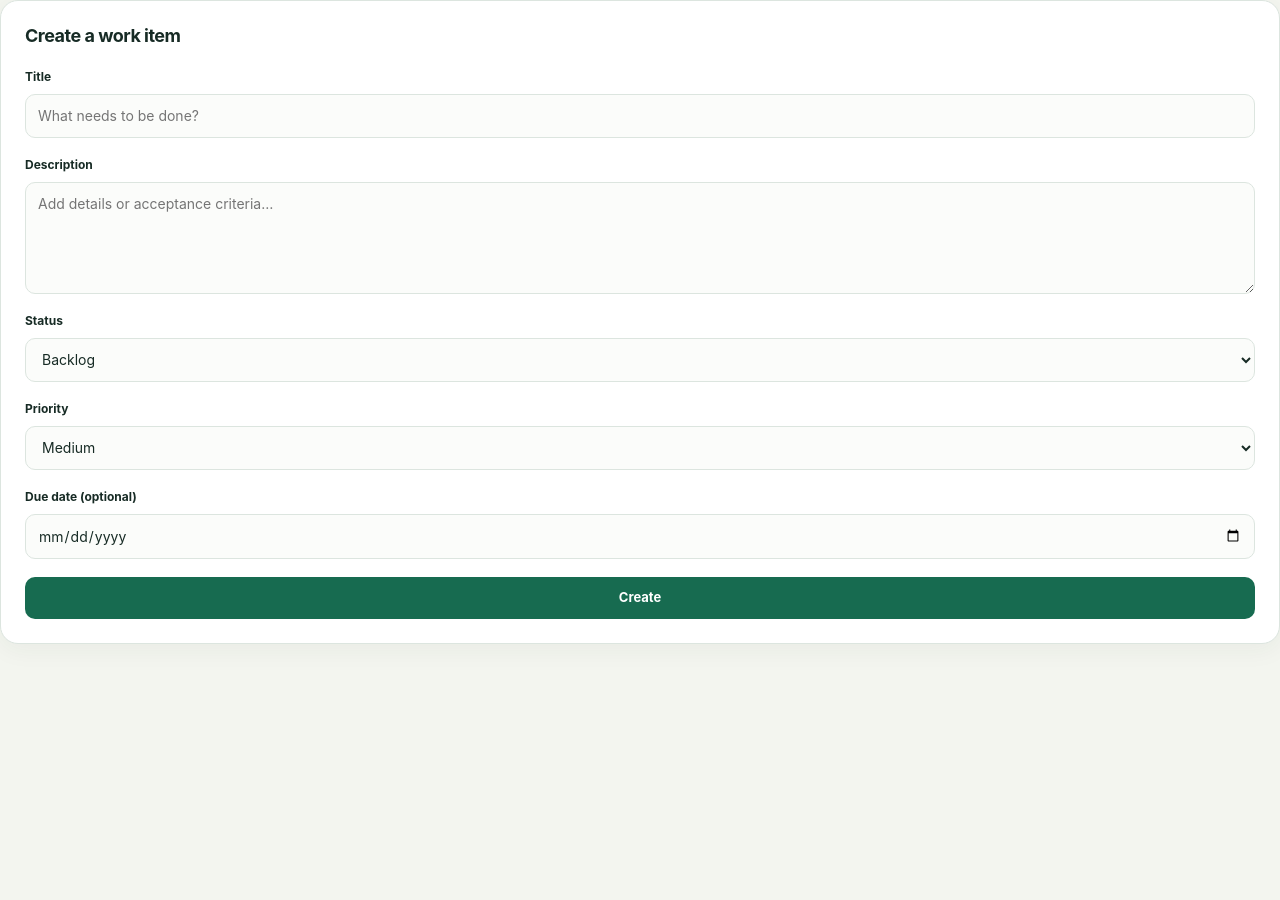
Test: WorkItemForm › prevents a second submission while saving
The width and height of the screenshot is (1280, 900).
Type "Build invoice editor" into the field labelled "Title". click: (640, 116)
box: [25, 94, 1255, 138]
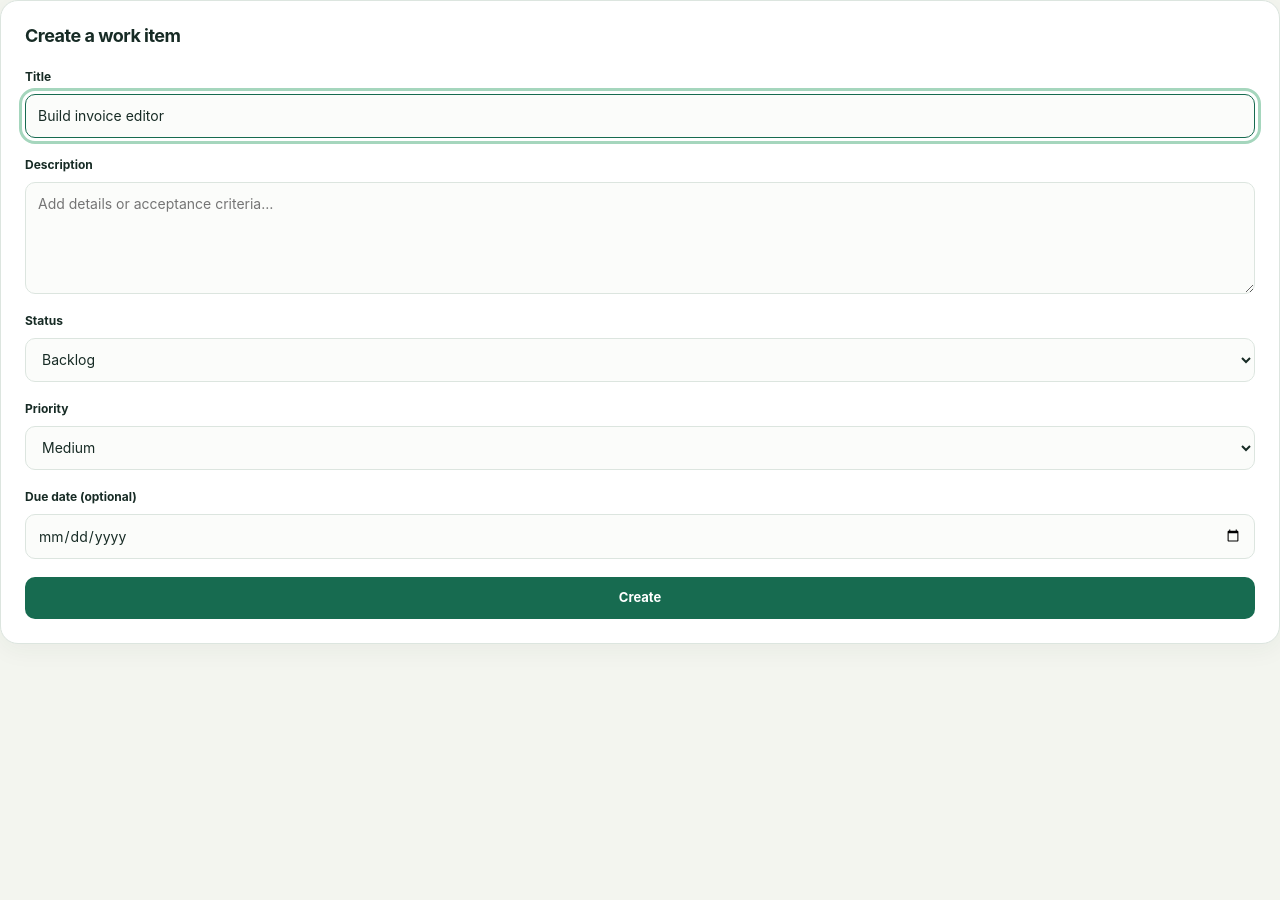
Click the button "Create". click: (640, 598)
box: [25, 576, 1255, 618]
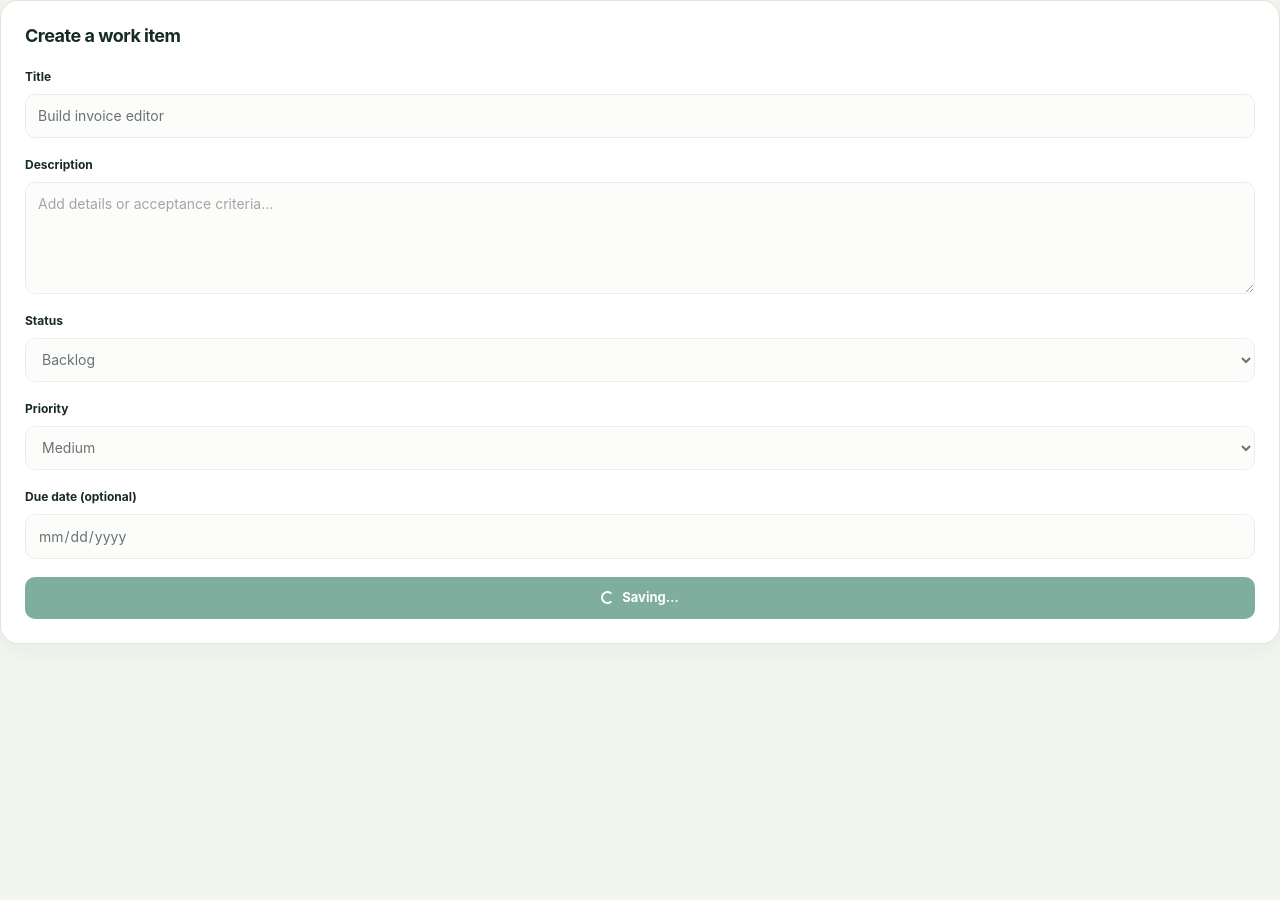
Expected: the button named "create" is disabled
Click the button named "create". click: (640, 598)
box: [25, 576, 1255, 618]
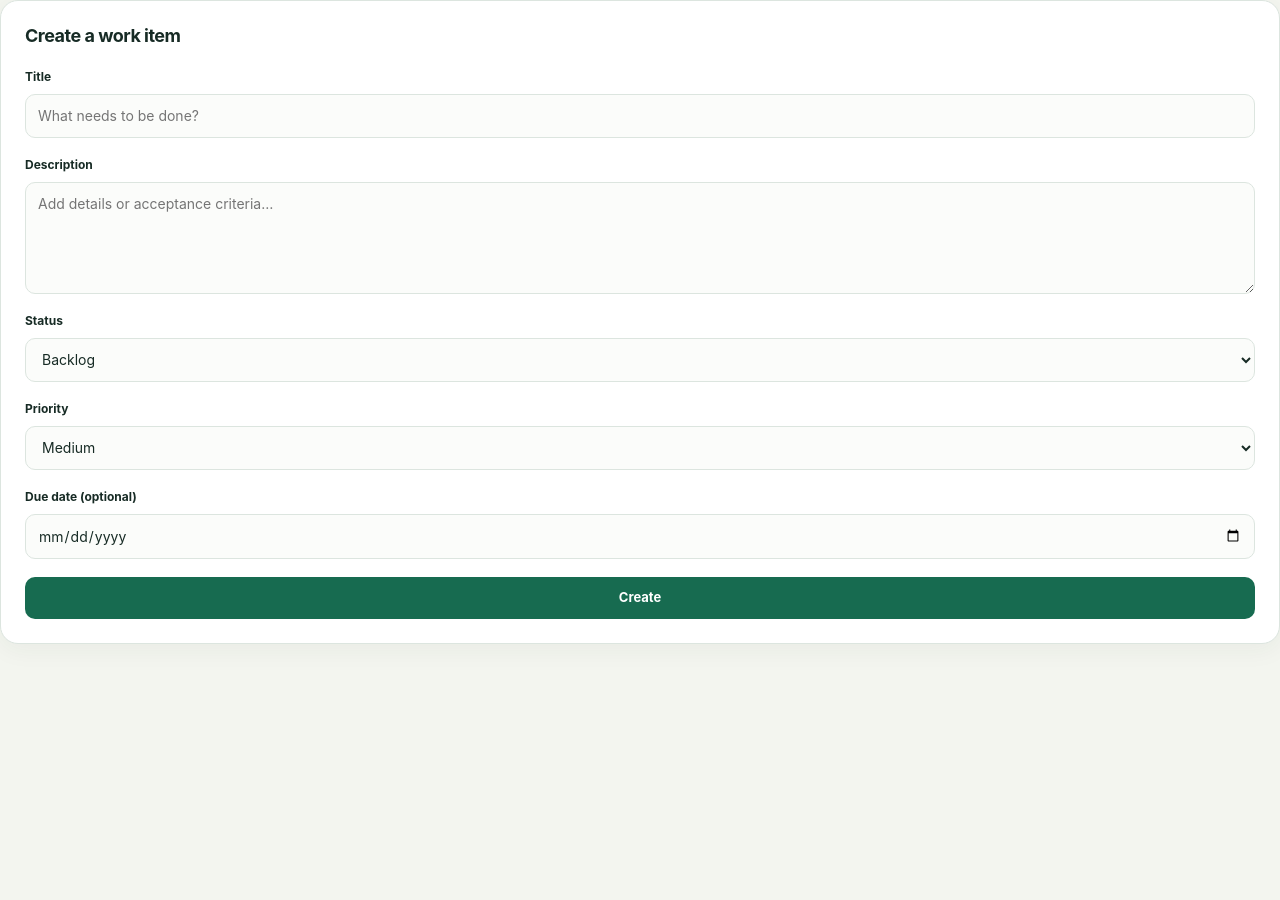
Expected: the button "Create" is enabled, [25, 576, 1255, 618]
